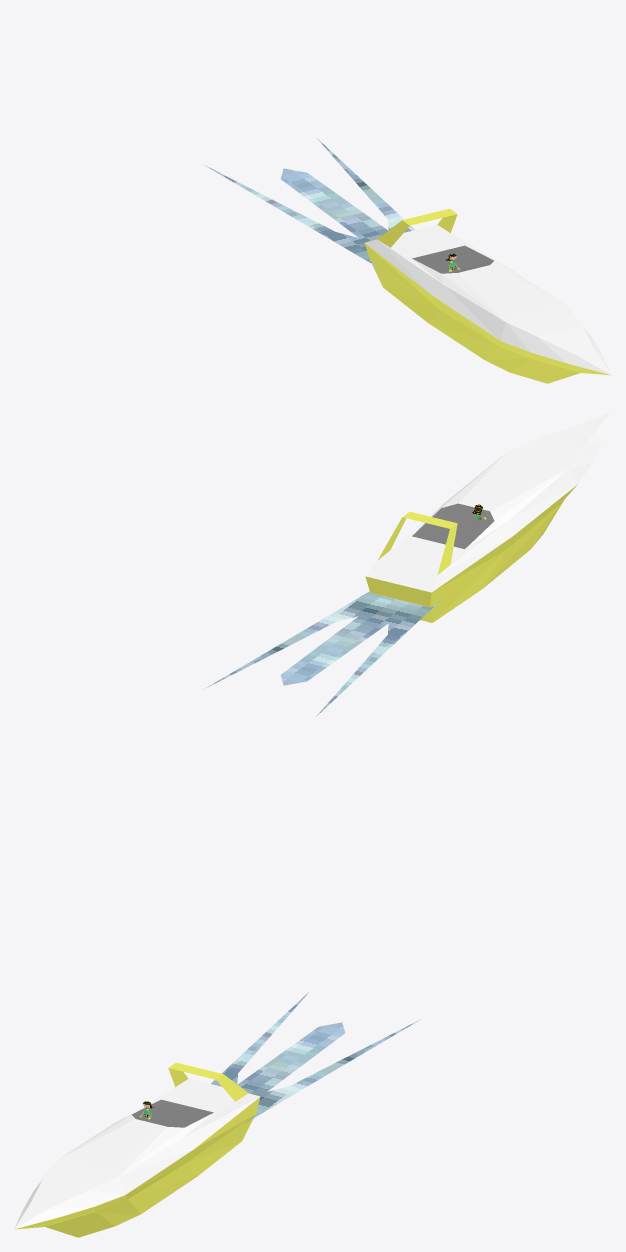
Rendered from uvmd-0010.glb.
3 views of the same model, one above another, from view 1: azimuth 30°, elevation 25°; view 2: azimuth 150°, elevation 25°; view 3: azimuth 330°, elevation 25° (orthographic).
Parts seen in each view (by area): view 1: uvmd-0010; view 2: uvmd-0010; view 3: uvmd-0010.
Boxes of the visible parts, x1=… form: uvmd-0010: x1=205, y1=137, x2=611, y2=383; uvmd-0010: x1=205, y1=412, x2=611, y2=716; uvmd-0010: x1=14, y1=991, x2=420, y2=1237.
Size of the model in its own units: 200 by 87 by 998.
Materials: 7 (7 with a texture image).
